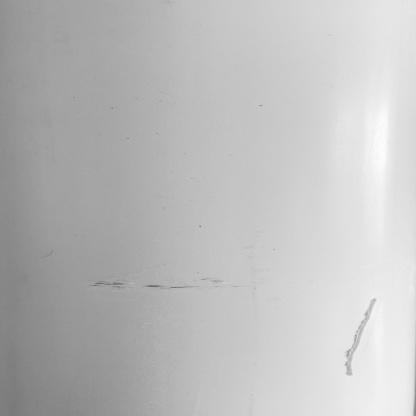sunshang: (93, 273, 248, 295), (342, 295, 378, 377)
